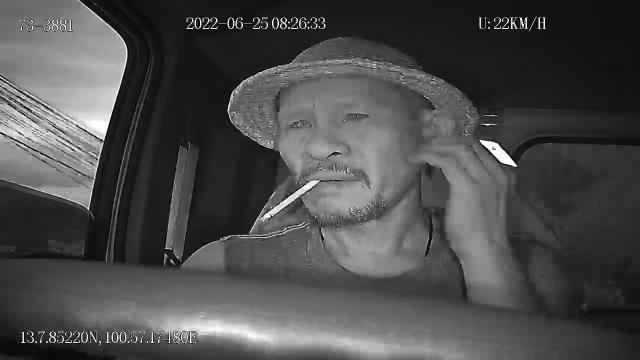SafeDriving: (336, 102, 376, 127), (281, 111, 319, 134)
Smoking: (258, 179, 322, 223)
